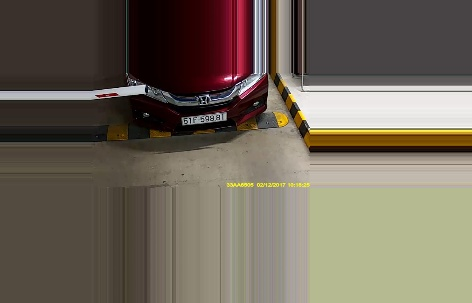plate: (181, 111, 225, 124)
